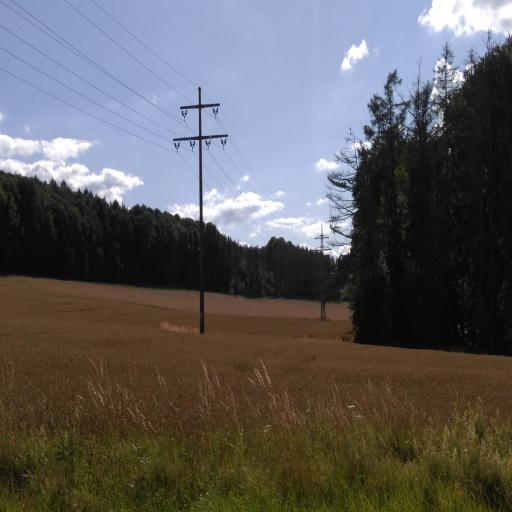mono_8: (172, 86, 228, 336)
ss_3: (313, 225, 335, 323)
